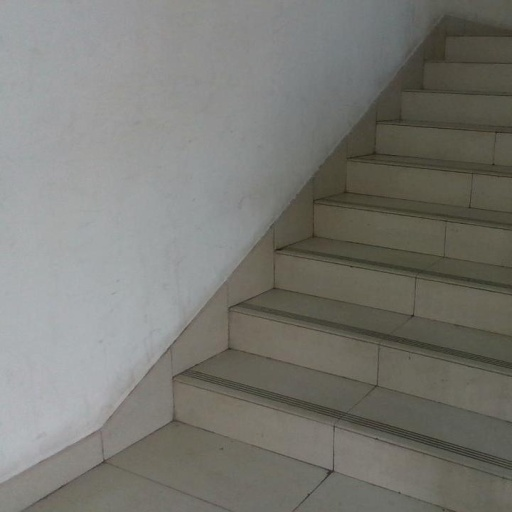Stairs: (175, 36, 512, 512)
